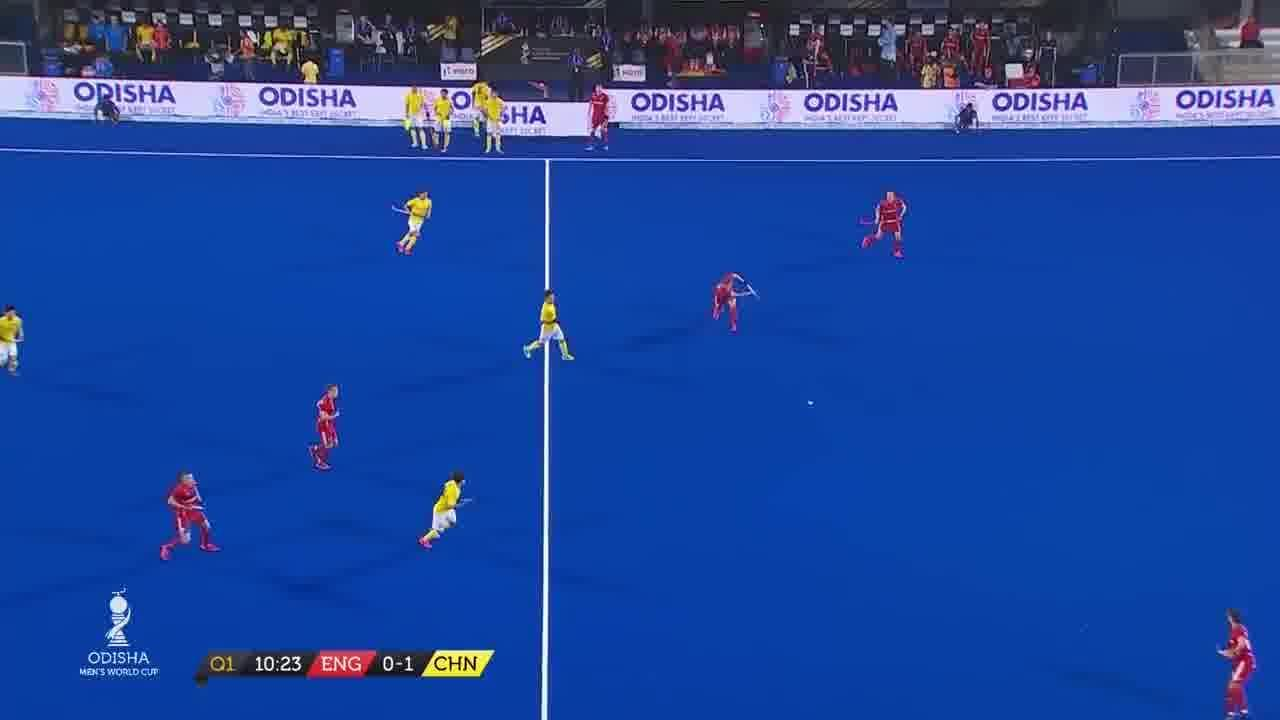ball: (802, 394, 822, 416)
